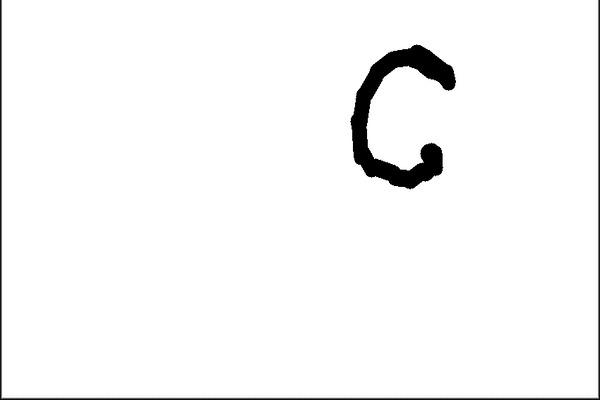C: (347, 43, 457, 197)
